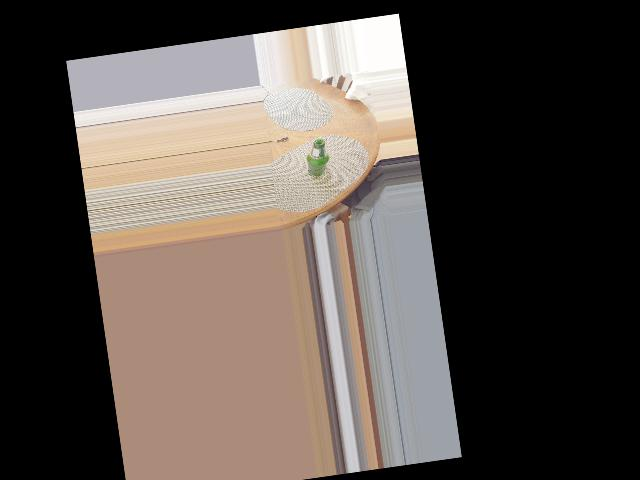beer: (304, 138, 332, 177)
